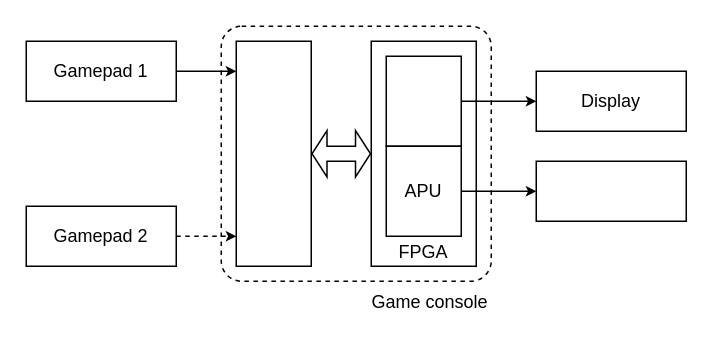
This 713x339 diagram has some shape labels left out. The shapes that lost their labels are listed below. From the top down, each one's centre as x and y in pixels, then its label:
the point at 423,100: PPU
the point at 273,153: STM32 CPU
the point at 610,190: Speaker
